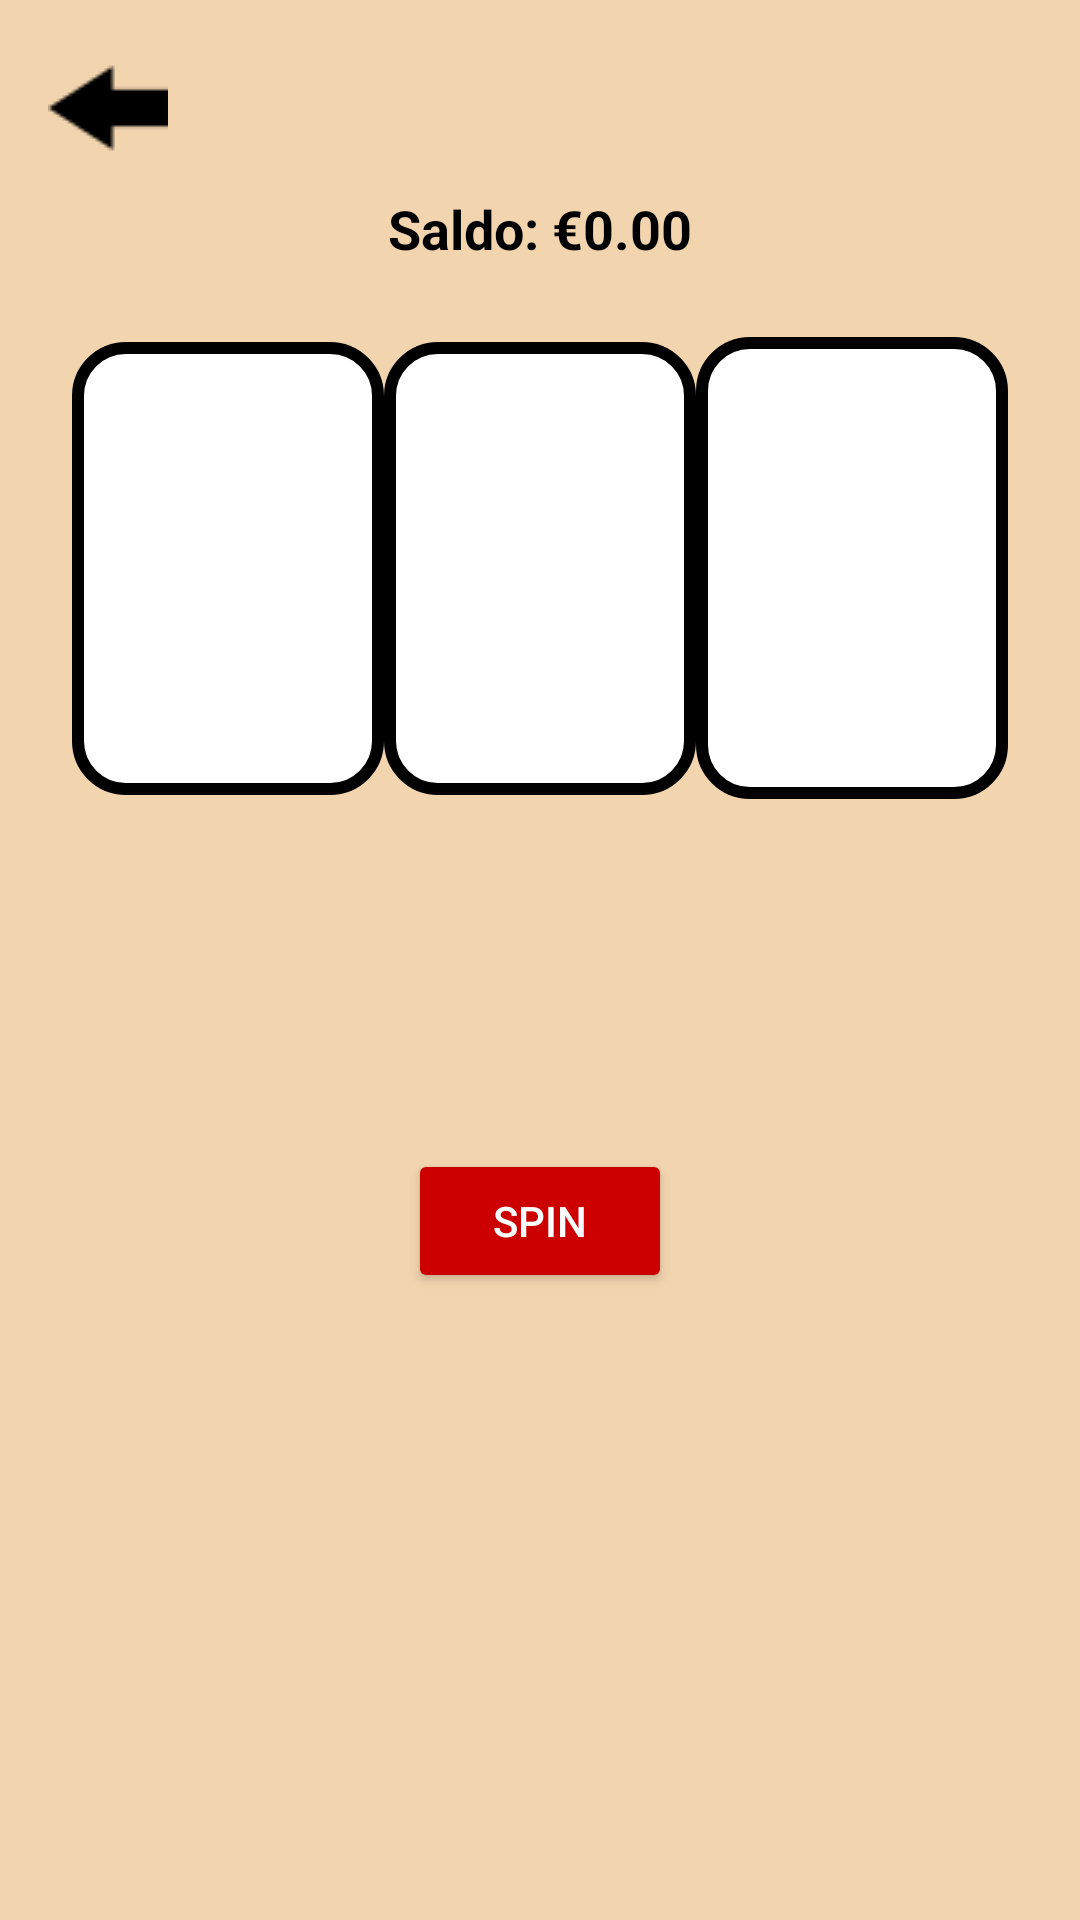

Icon bounding boxes for this 1080px×1920px phone screenshot, format (x1, y1, x2, y2):
back arrow: (48, 65, 168, 151)
